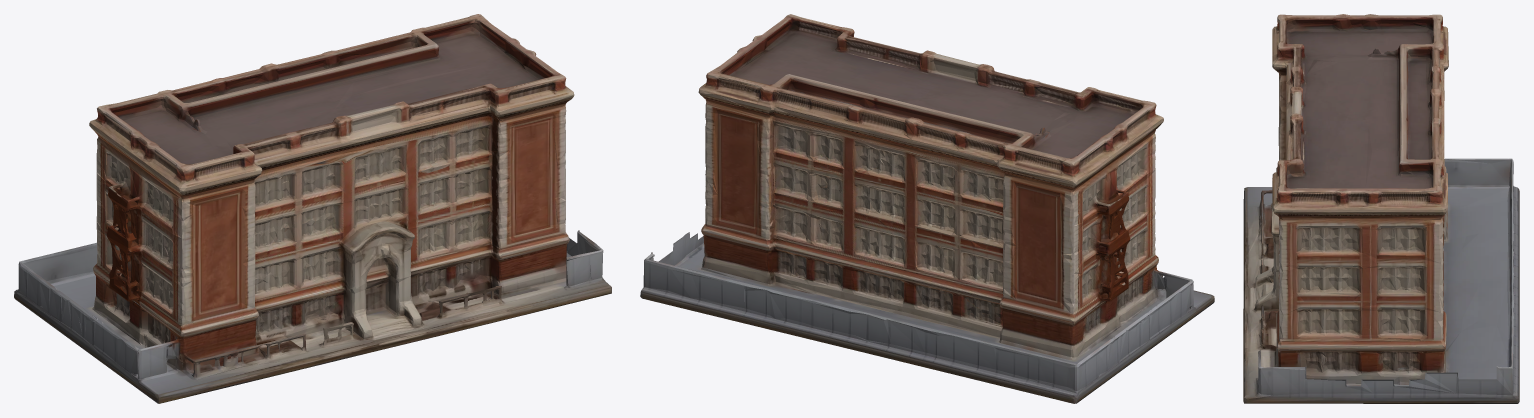
Rendered from public_school.glb.
The picture shows the model from 3 angles, left to right: view 1: azimuth 30°, elevation 25°; view 2: azimuth 150°, elevation 25°; view 3: azimuth 270°, elevation 25°; orthographic projection. The views are drawn at different scales.
Parts seen in each view (by area): view 1: material; view 2: material; view 3: material.
Part boxes in pixels (x1,y1,x2,y2): material: [14, 14, 611, 403]; material: [640, 14, 1214, 403]; material: [1243, 14, 1519, 403].
Bounding box in the file's own units: 0.9823 × 0.4432 × 0.5445.
1 material, 1 textured.
